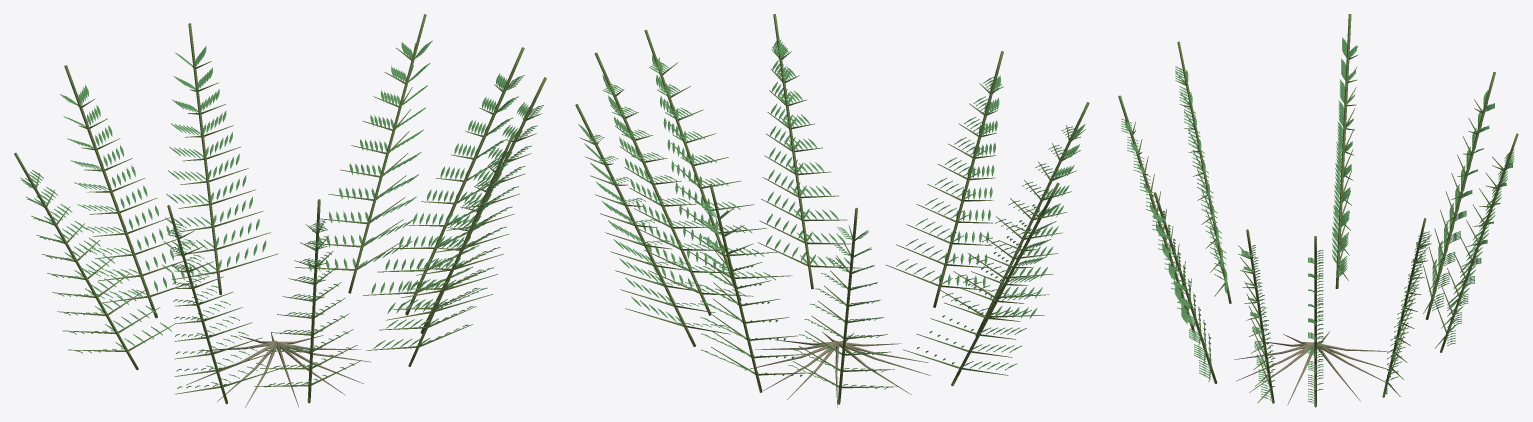
The model's file is christmas-mobile.glb.
3 renders of one model, left to right at view 1: azimuth 30°, elevation 25°; view 2: azimuth 150°, elevation 25°; view 3: azimuth 270°, elevation 25°, orthographic. The views are drawn at different scales.
Visible parts, largest first — view 1: moss-leaf, moss-branch, moss-axis, anchoring-root; view 2: moss-leaf, moss-branch, moss-axis, anchoring-root; view 3: moss-leaf, moss-axis, moss-branch, anchoring-root.
Part boxes in pixels (x1,y1,x2,y2): moss-leaf: (21,40,543,388); moss-branch: (20,43,541,394); moss-axis: (14,14,546,404); anchoring-root: (186,332,370,407); moss-leaf: (578,38,1085,389); moss-branch: (579,47,1085,388); moss-axis: (575,14,1089,404); anchoring-root: (744,331,930,407); moss-leaf: (1121,37,1514,404); moss-axis: (1118,14,1518,407); moss-branch: (1131,46,1504,406); anchoring-root: (1234,331,1398,407).
Size of the model in its own units: 0.7545 by 0.3861 by 0.5708.
